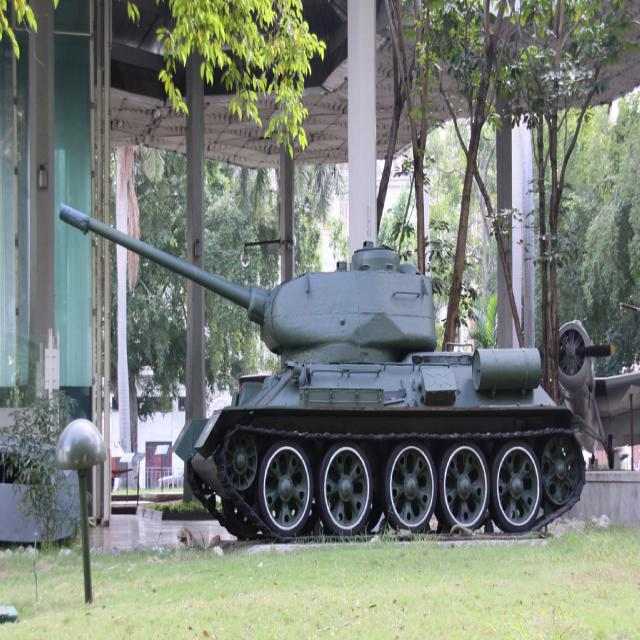tank: (59, 202, 586, 538)
